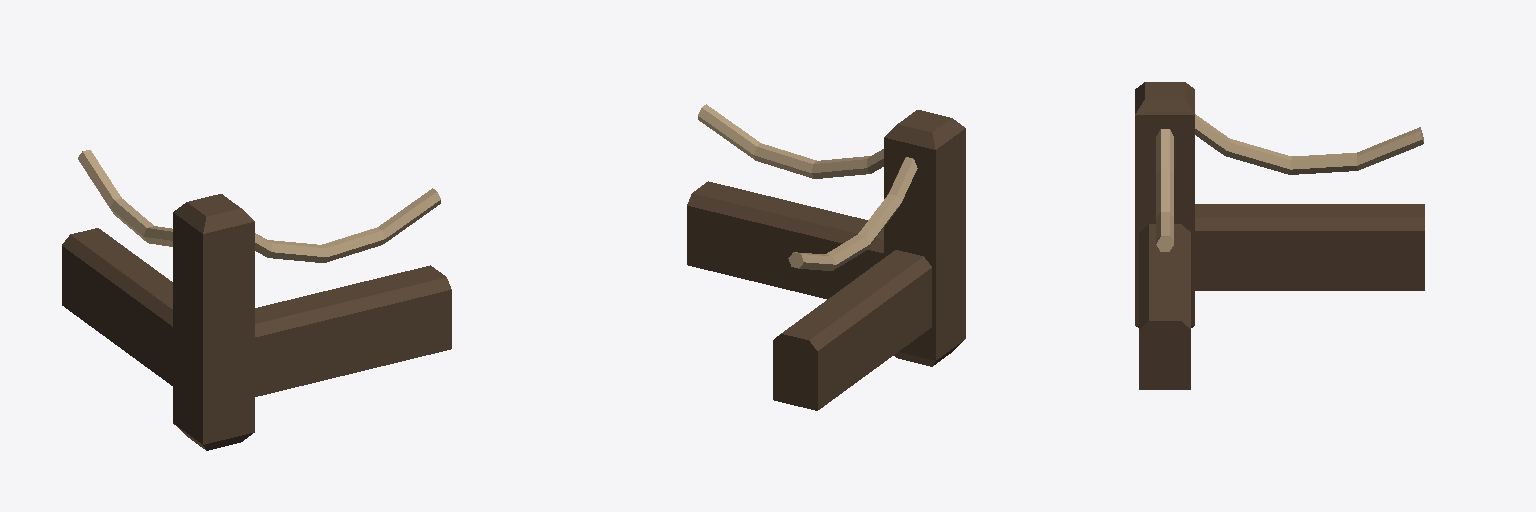
File: Wood_Rope_Corner.obj
The picture shows the model from 3 angles: view 1: azimuth 30°, elevation 25°; view 2: azimuth 150°, elevation 25°; view 3: azimuth 270°, elevation 25°; orthographic projection.
Parts seen in each view (by area): view 1: object3, object1, object2, object4; view 2: object3, object1, object2, object4; view 3: object3, object1, object4, object2.
Boxes of the visible parts, x1=… form: object3: x1=62, y1=228, x2=451, y2=396; object1: x1=173, y1=194, x2=254, y2=450; object2: x1=255, y1=188, x2=440, y2=262; object4: x1=78, y1=150, x2=172, y2=246; object3: x1=687, y1=181, x2=931, y2=410; object1: x1=884, y1=110, x2=965, y2=366; object2: x1=698, y1=104, x2=883, y2=178; object4: x1=788, y1=157, x2=917, y2=270; object3: x1=1139, y1=204, x2=1424, y2=389; object1: x1=1135, y1=82, x2=1194, y2=327; object4: x1=1195, y1=114, x2=1423, y2=174; object2: x1=1156, y1=129, x2=1173, y2=251.
Size of the model in its own units: 1.12 by 0.9959 by 1.12.